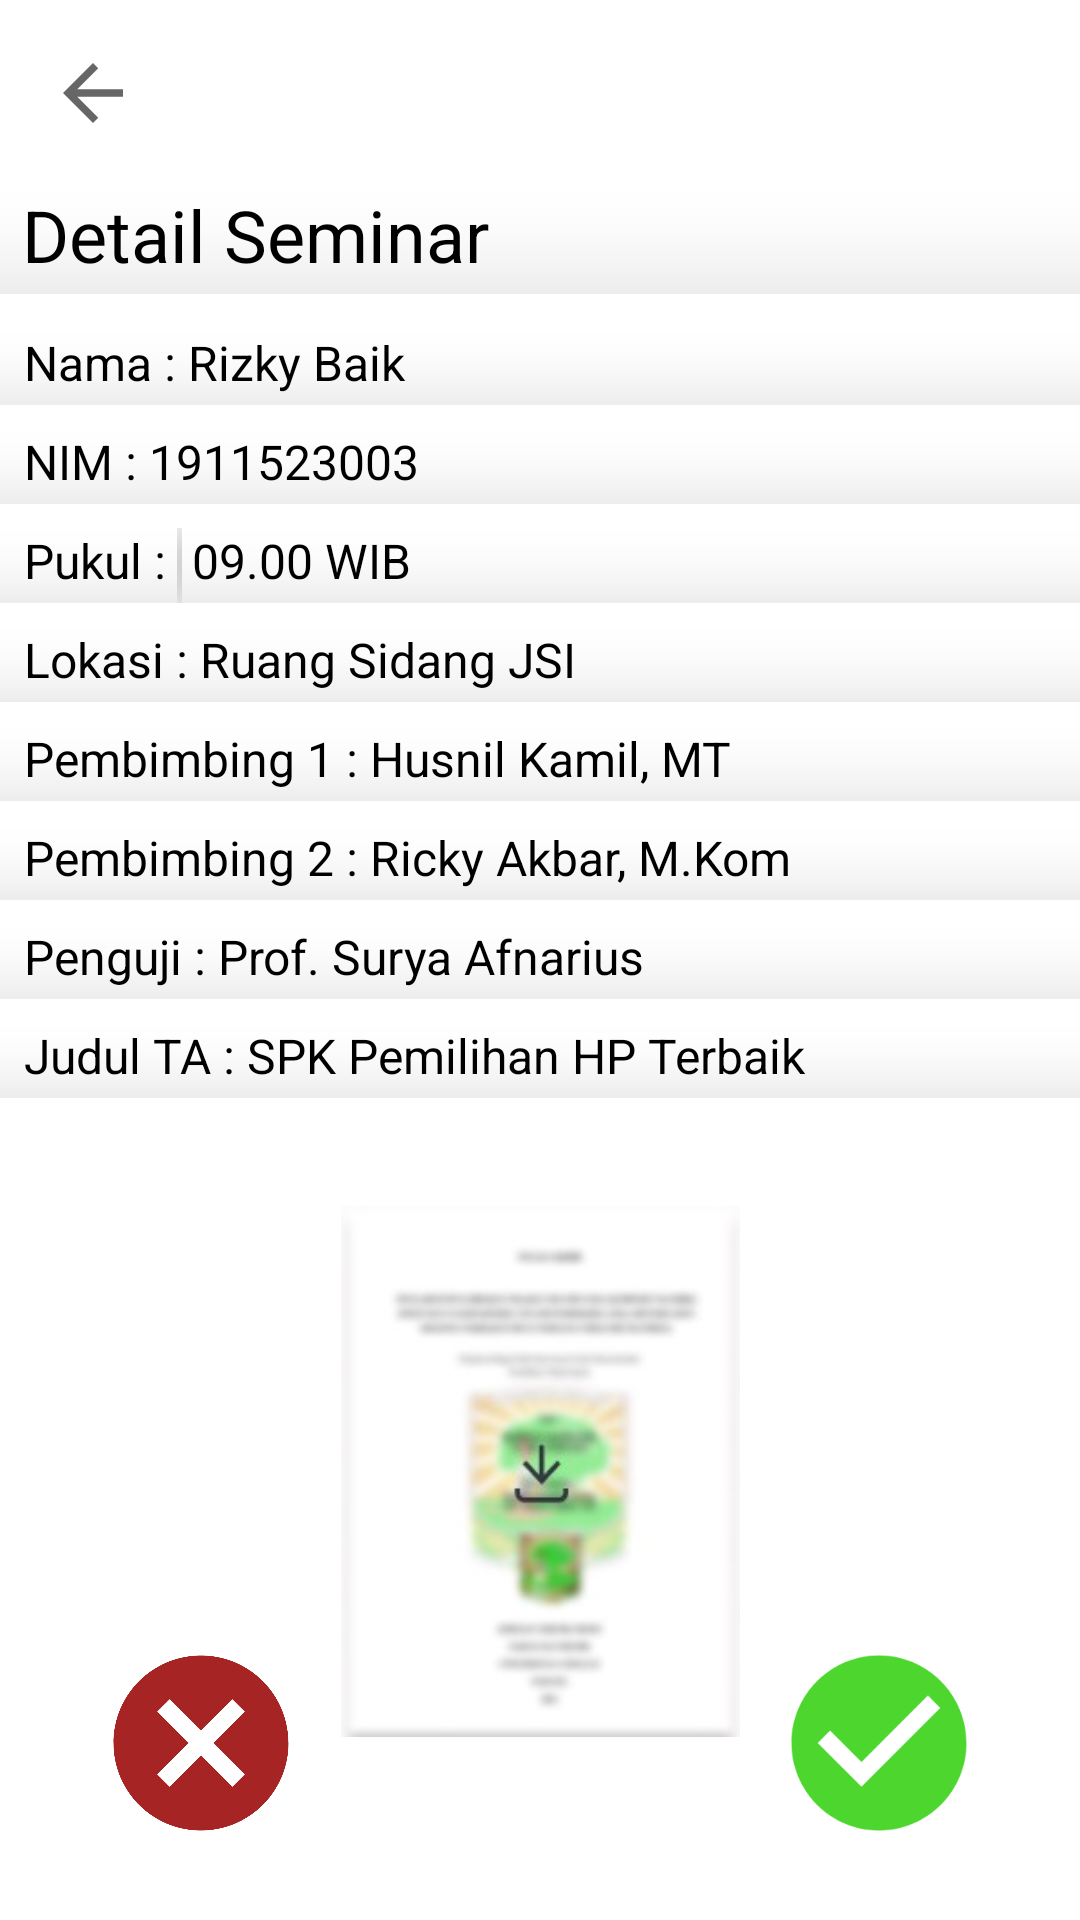

Icon bounding boxes for this 1080px x 1920px phone screenshot, format (x1, y1, x2, y2):
check circle: (791, 1655, 967, 1831)
Reject: (113, 1655, 289, 1831)
